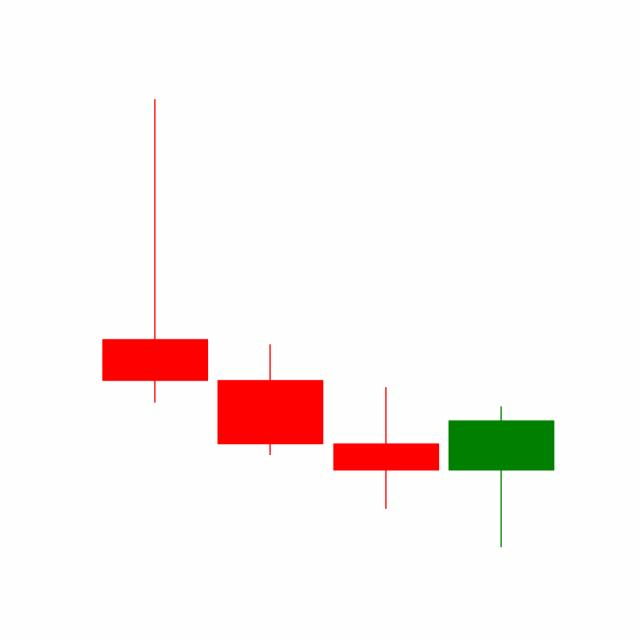Hammer: (443, 405, 559, 549)
